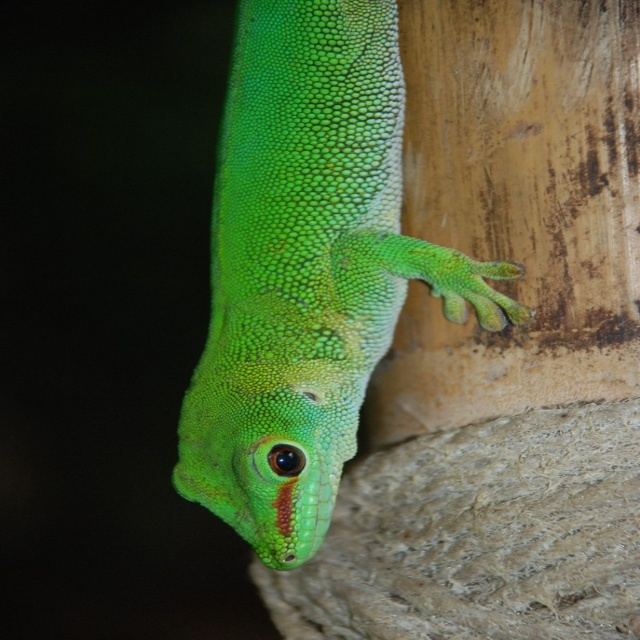Lizard: (171, 0, 537, 571)
